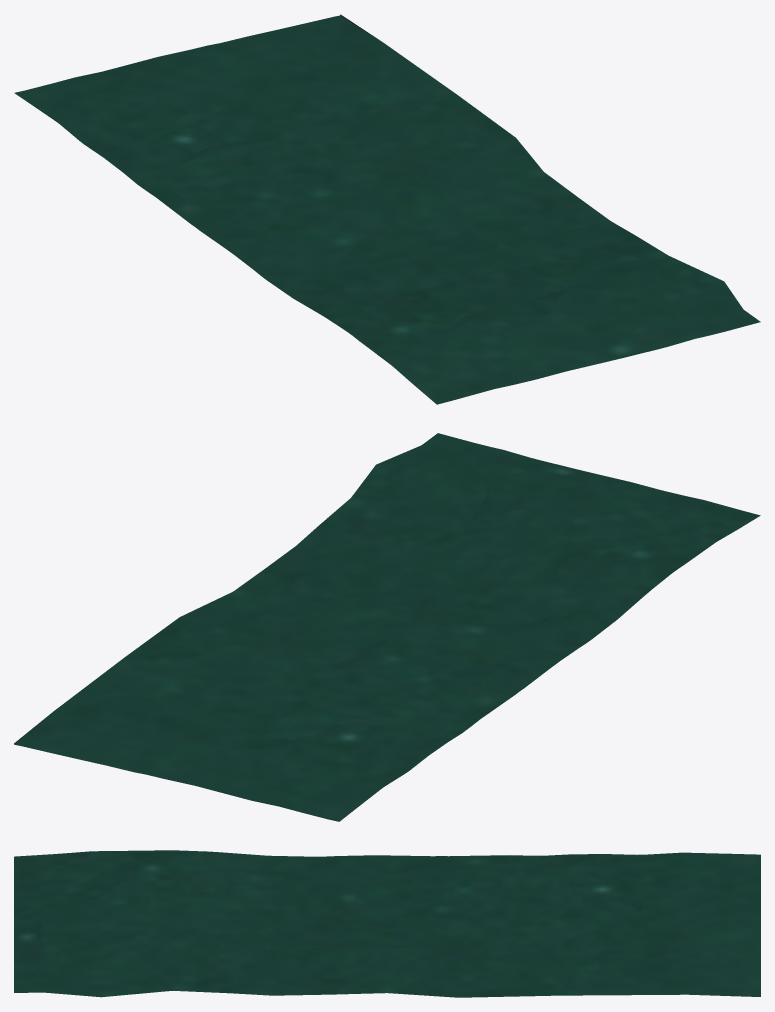
3 renders of one model, top to bottom at view 1: azimuth 30°, elevation 25°; view 2: azimuth 150°, elevation 25°; view 3: azimuth 270°, elevation 25°, orthographic. The views are drawn at different scales.
Bounding box in the file's own units: 24 × 0.642 × 52.22.
1 material, 1 textured.
